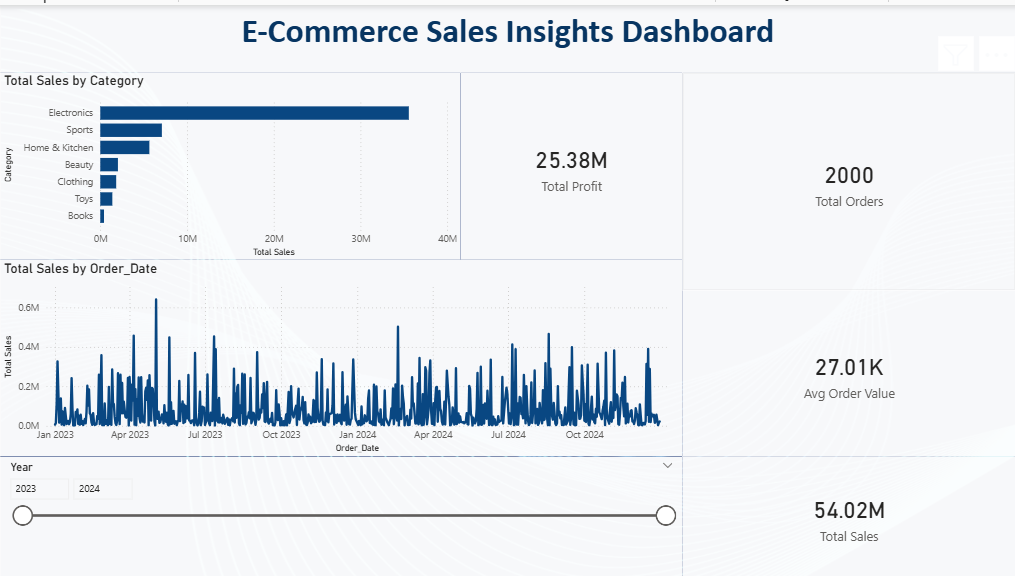

Layout of this report page (visuals, bound fields, positions):
{"tool":"powerbi","page":{"name":"Page 1","canvas":[1280,720],"ordinal":0},"visuals":[{"type":"card","fields":{"Values":["Orders.Total Sales"]},"box":[859.8,568.8,419.5,151.2],"z":0},{"type":"card","fields":{"Values":["Orders.Total Profit"]},"box":[580.2,85,279.7,236.2],"z":1000},{"type":"card","fields":{"Values":["Orders.Total Orders"]},"box":[859.8,85,419.5,274],"z":2000},{"type":"card","fields":{"Values":["Orders.Avg Order Value"]},"box":[859.8,359.1,419.5,209.8],"z":3000},{"type":"clusteredBarChart","fields":{"Y":["Orders.Total Sales"],"Category":["Orders.Category"]},"box":[0,85,580.2,236.2],"z":4000},{"type":"lineChart","fields":{"Y":["Orders.Total Sales"],"Category":["Orders.Order_Date"]},"box":[0,321.3,859.8,247.6],"z":5000},{"type":"slicer","fields":{"Values":["Orders.Year"]},"box":[0,568.8,859.8,151.2],"z":6000},{"type":"textbox","box":[0,0,1279.4,85],"z":6001}]}

Visuals, with their boxes in screenshot pixels (x1, y1, x2, y2), scaled from the page's 1280x720 canvas onto the 1015x576 screenshot:
card - Orders.Total Sales: <region>682, 455, 1014, 575</region>
card - Orders.Total Profit: <region>460, 68, 682, 257</region>
card - Orders.Total Orders: <region>682, 68, 1014, 287</region>
card - Orders.Avg Order Value: <region>682, 287, 1014, 455</region>
clusteredBarChart - Orders.Total Sales x Orders.Category: <region>0, 68, 460, 257</region>
lineChart - Orders.Total Sales x Orders.Order_Date: <region>0, 257, 682, 455</region>
slicer - Orders.Year: <region>0, 455, 682, 575</region>
textbox: <region>0, 0, 1014, 68</region>
